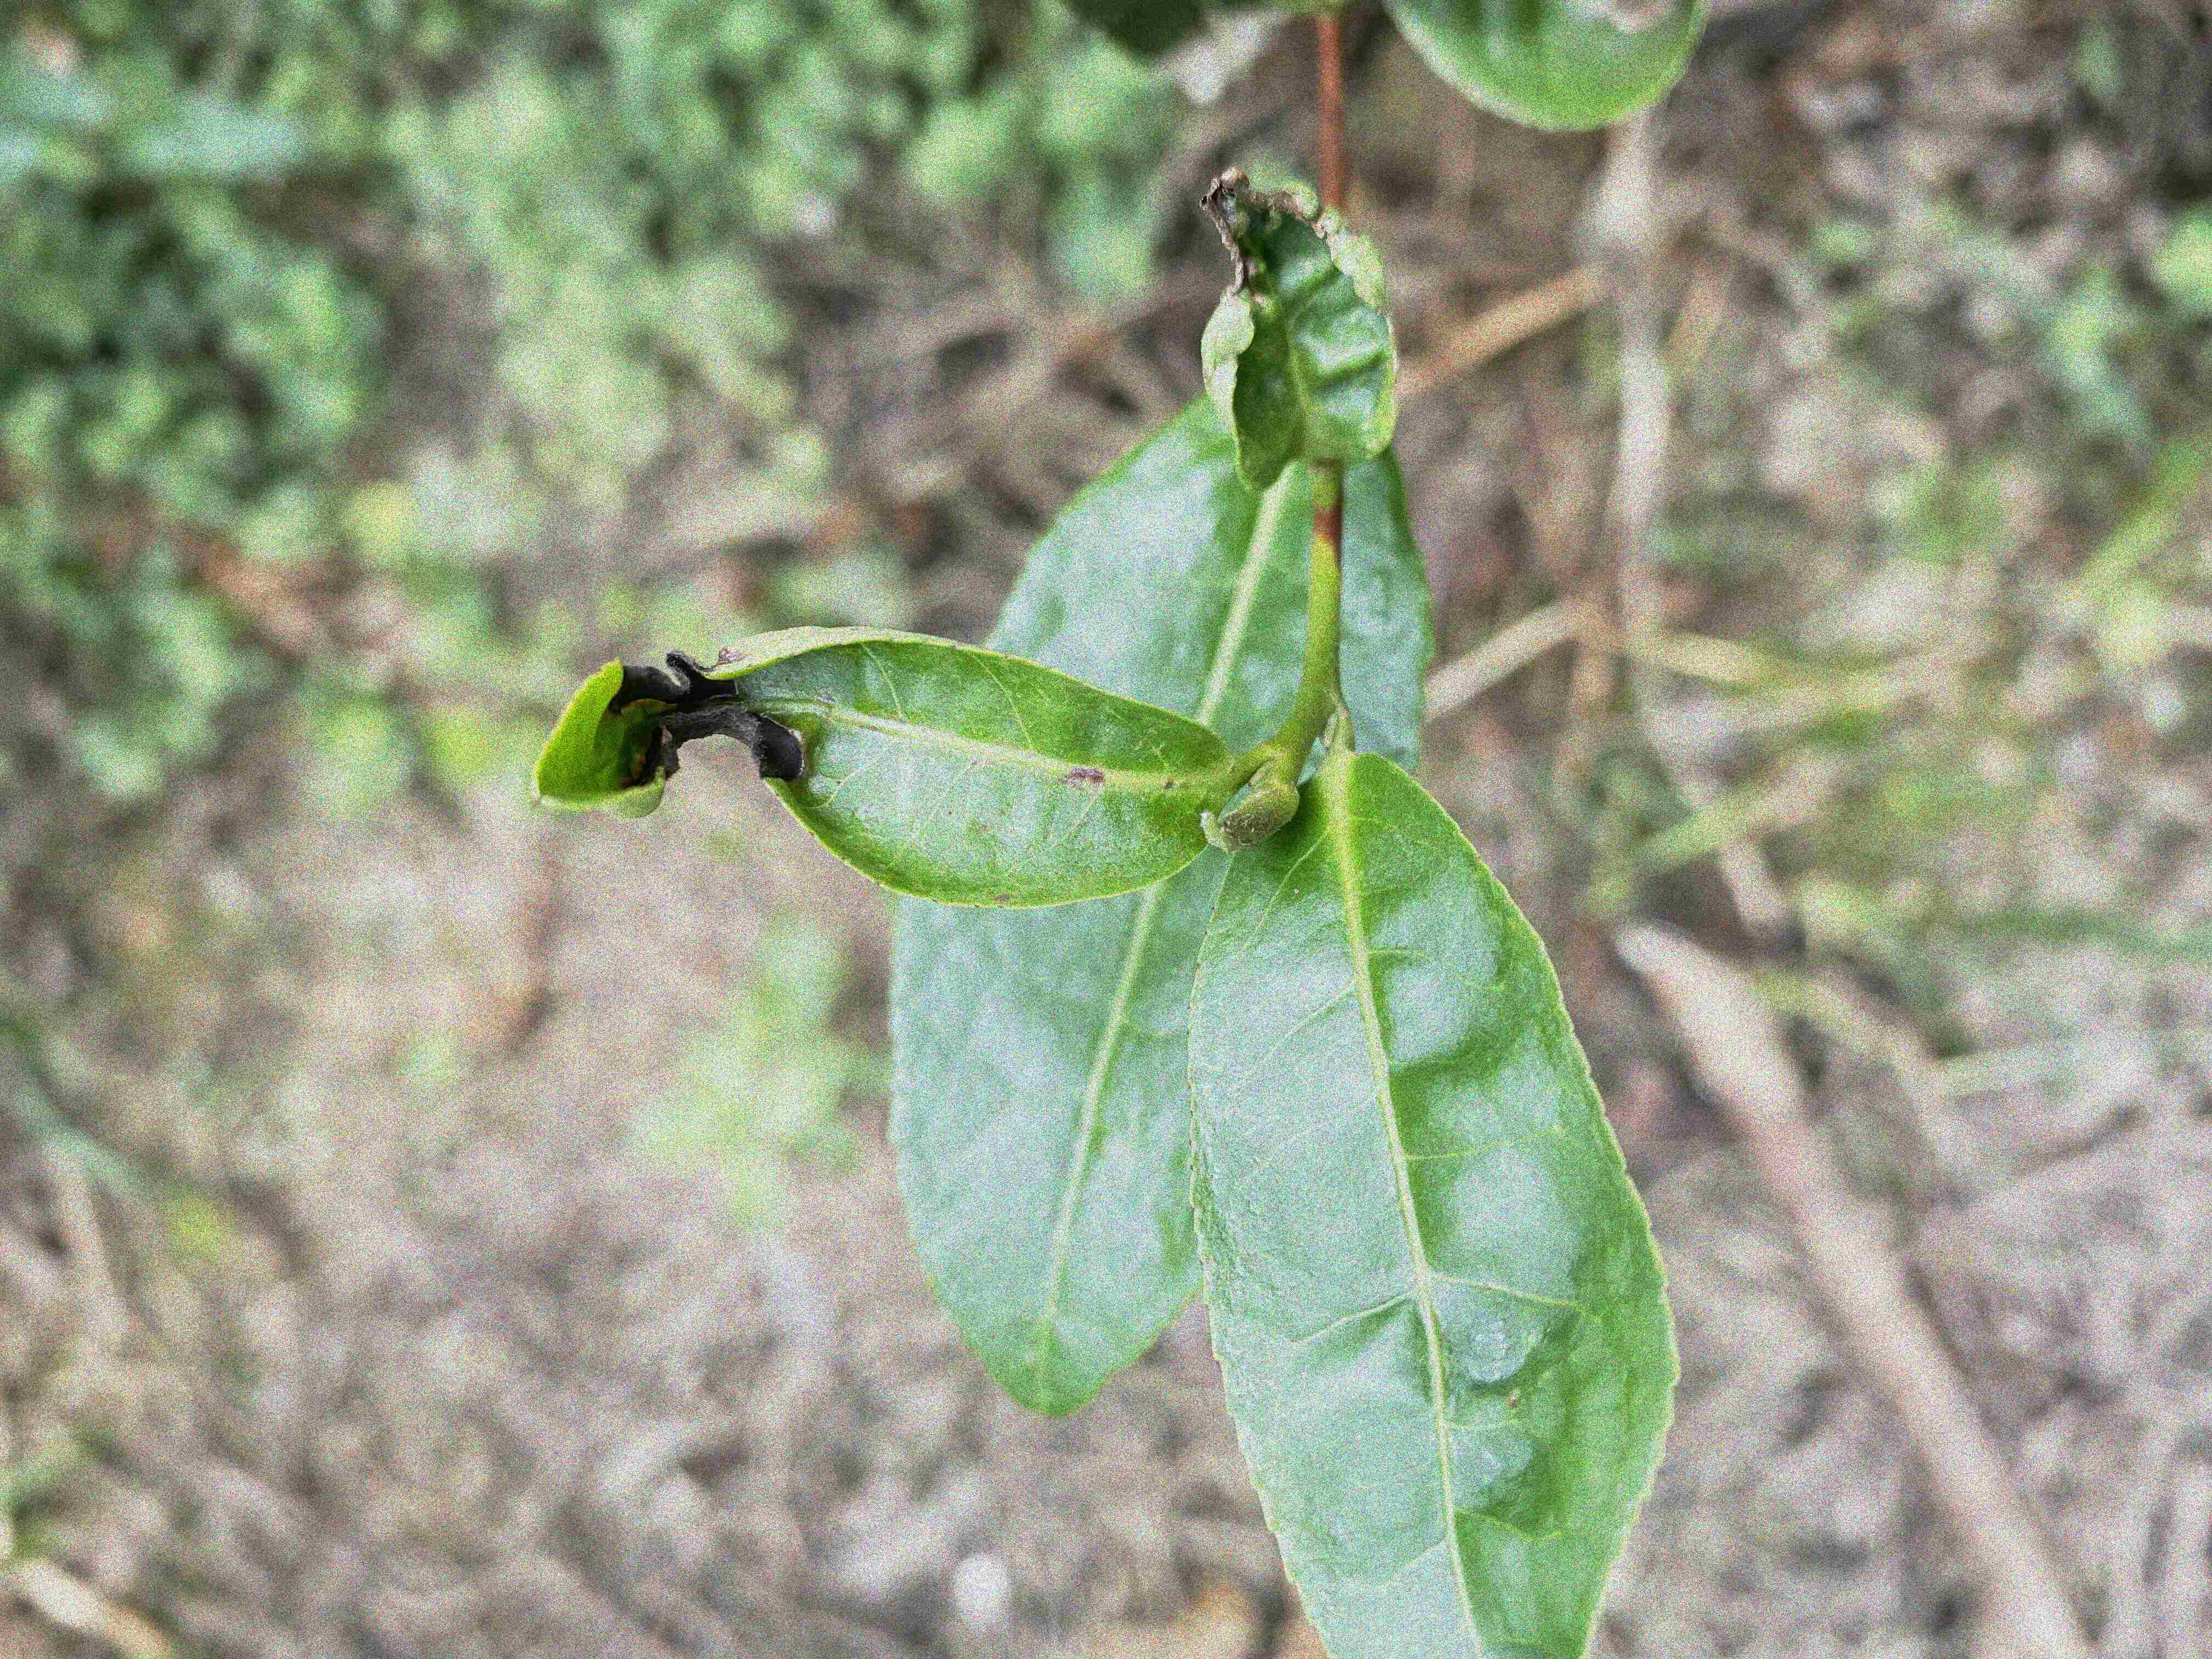healthy: (1184, 748, 1679, 1657)
tanju_high: (531, 620, 1230, 910), (1197, 164, 1399, 491)
